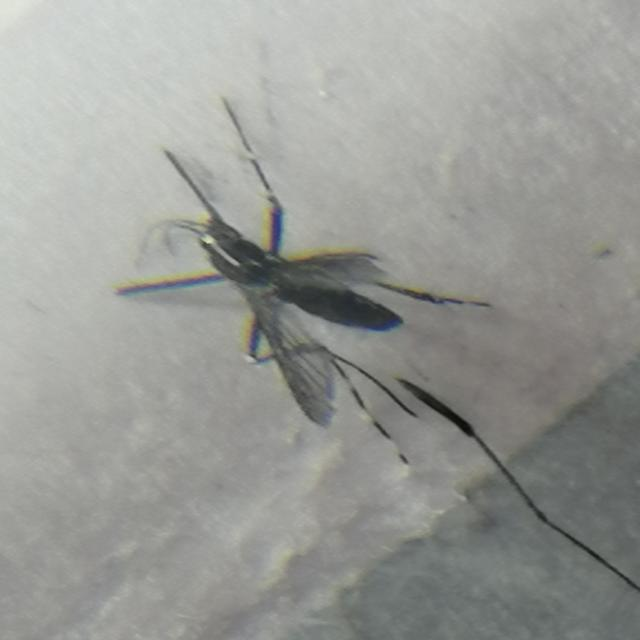albopictus: (103, 92, 543, 468)
